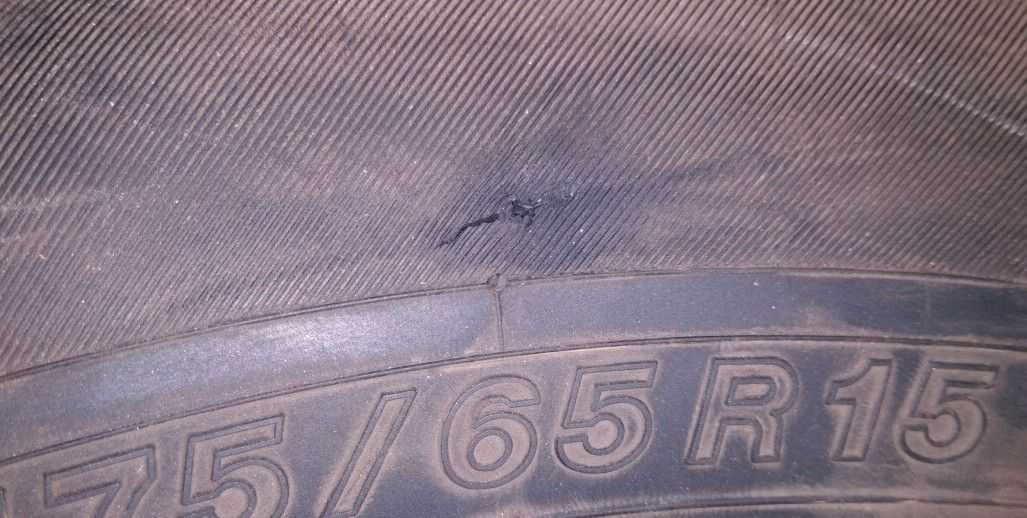cut: (434, 191, 563, 251)
